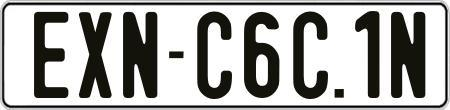1: (354, 8, 378, 99)
6: (242, 10, 280, 99)
C: (194, 11, 233, 104), (292, 9, 331, 96)
E: (34, 10, 68, 98)
N: (122, 12, 162, 104), (390, 10, 430, 99)
X: (78, 10, 113, 99)
